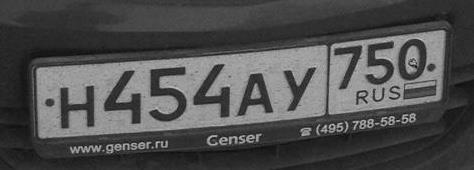license-plateSW: (30, 21, 449, 147)
